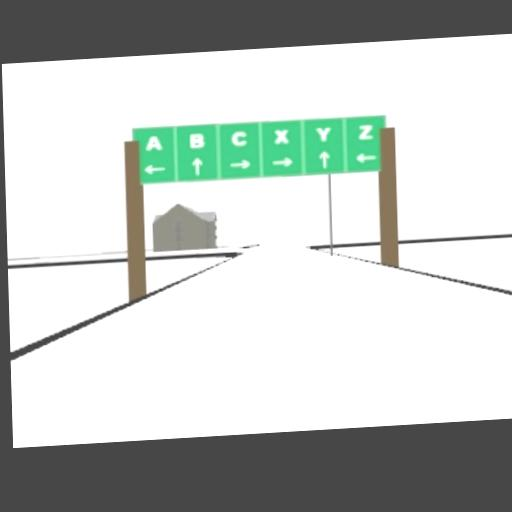A: (145, 135, 162, 150)
B: (188, 132, 203, 147)
C: (231, 130, 246, 147)
Left: (143, 164, 165, 175), (356, 152, 377, 163)
Right: (229, 158, 251, 170), (271, 156, 293, 167)
Straight: (190, 156, 202, 175), (318, 150, 329, 168)
X: (273, 129, 288, 144)
Y: (314, 127, 331, 142)
Z: (358, 124, 373, 139)
